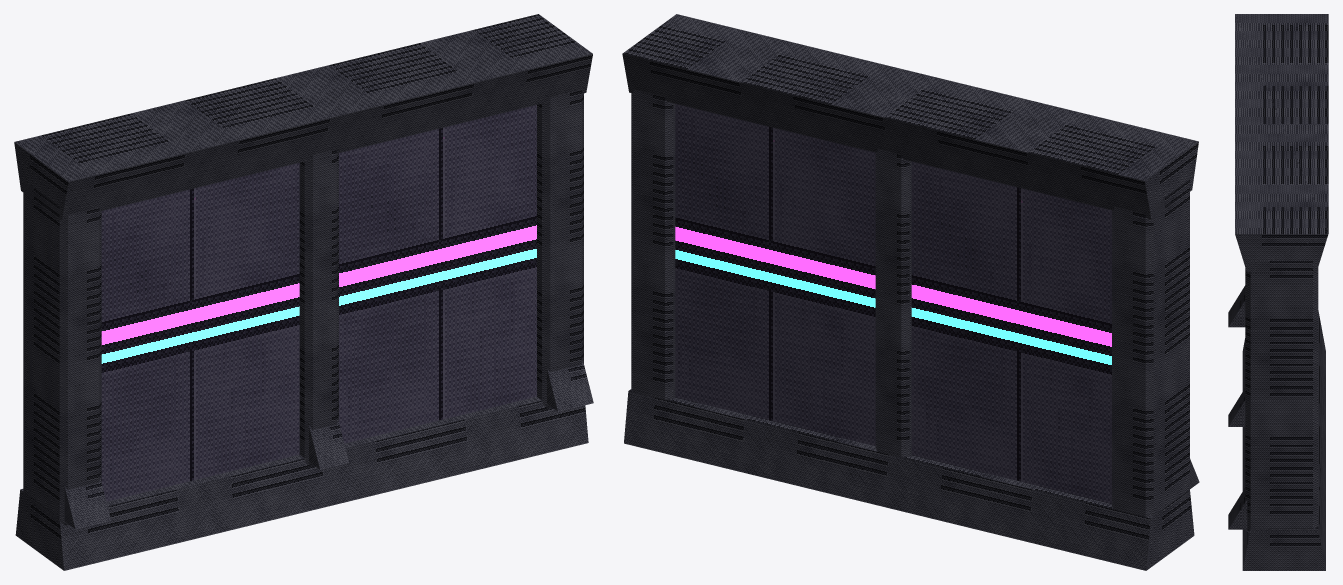
File: city_wall.glb
The picture shows the model from 3 angles, left to right: view 1: azimuth 30°, elevation 25°; view 2: azimuth 150°, elevation 25°; view 3: azimuth 270°, elevation 25°; orthographic projection. The views are drawn at different scales.
Parts seen in each view (by area): view 1: city_wall__city_roof_mech, city_wall__city_wall_neon; view 2: city_wall__city_roof_mech, city_wall__city_wall_neon; view 3: city_wall__city_roof_mech.
Part boxes in pixels (x1,y1,x2,y2): city_wall__city_roof_mech: (14, 14, 593, 570); city_wall__city_wall_neon: (101, 105, 536, 501); city_wall__city_roof_mech: (622, 14, 1199, 570); city_wall__city_wall_neon: (675, 104, 1111, 503); city_wall__city_roof_mech: (1228, 14, 1328, 570).
Bounding box in the file's own units: 4 × 2.86 × 0.77.
2 materials, 2 textured.
